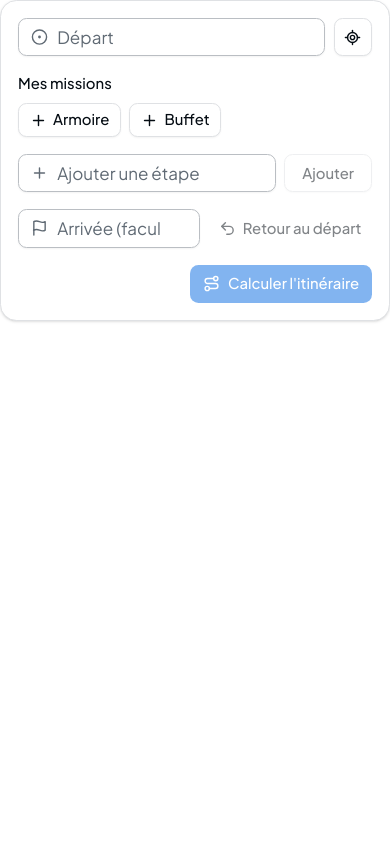
Test: RoutePlanner › asks for the stops in the driver's order, and shows both times
Click the button "Armoire". click: point(70, 120)
box: [18,103,121,137]
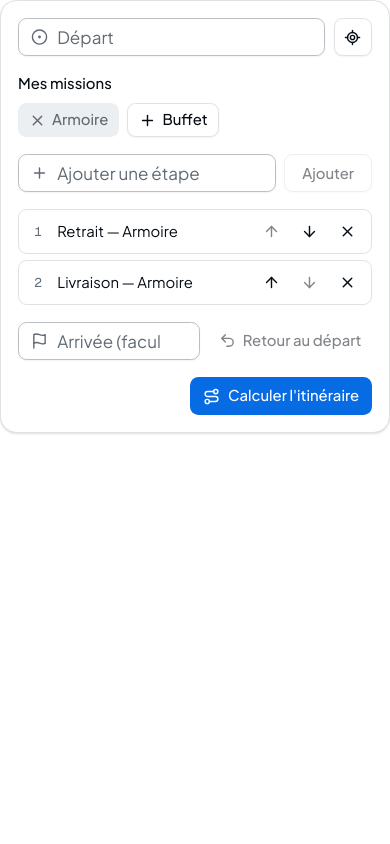
Click the button "Calculer l'itinéraire". click: point(281, 396)
box: [190,377,372,415]
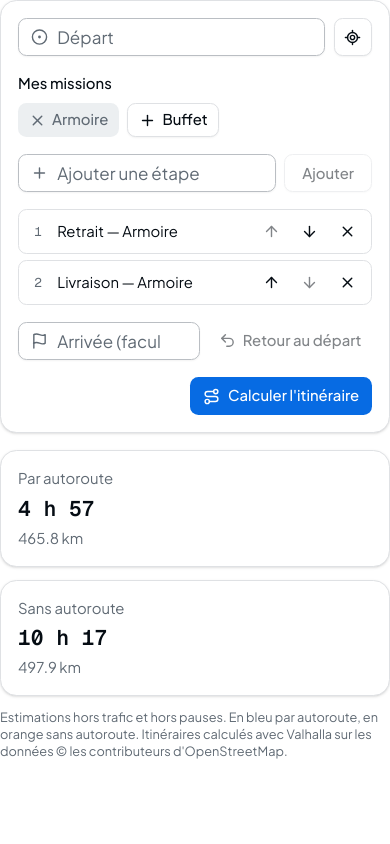
Now the text "4 h 57" is shown, box [18,495,94,522]
Now the text "10 h 17" is shown, box [18,624,107,651]
